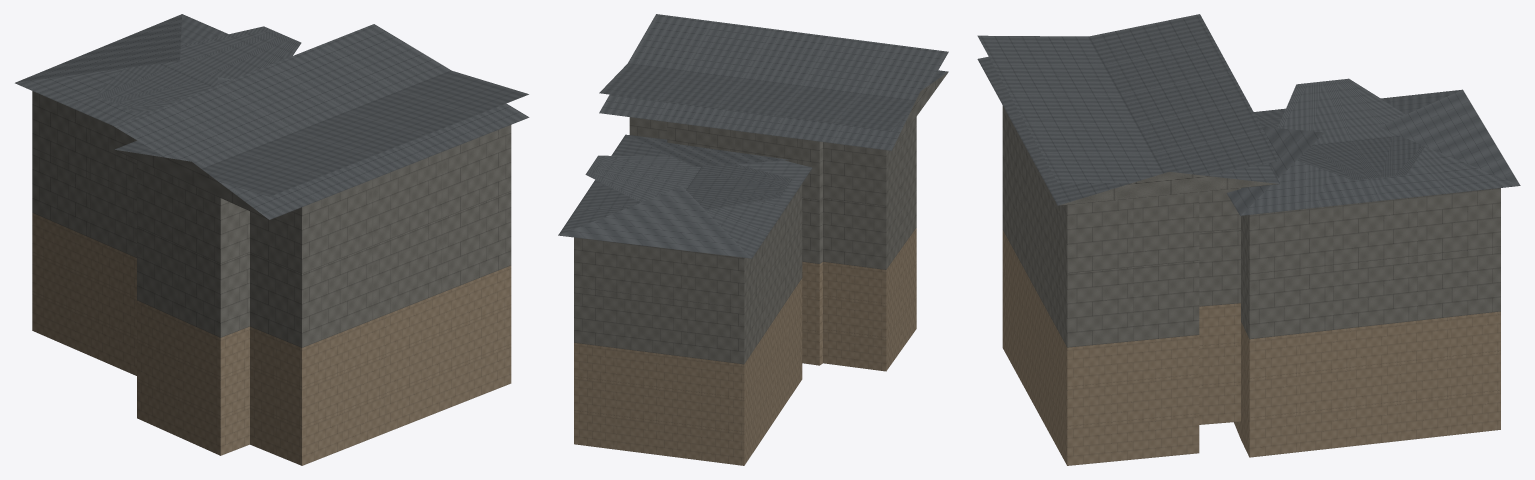
File: bld_c22_30_389.gltf
The picture shows the model from 3 angles, left to right: view 1: azimuth 30°, elevation 25°; view 2: azimuth 150°, elevation 25°; view 3: azimuth 270°, elevation 25°; orthographic projection. The views are drawn at different scales.
Visible parts, largest first — view 1: bld_c22_30_389; view 2: bld_c22_30_389; view 3: bld_c22_30_389.
Part boxes in pixels (x1=…): bld_c22_30_389: x1=15, y1=14, x2=529, y2=465; bld_c22_30_389: x1=558, y1=14, x2=948, y2=465; bld_c22_30_389: x1=977, y1=14, x2=1520, y2=465.
Size of the model in its own units: 15.59 by 13.3 by 21.22.
4 materials, 4 textured.
